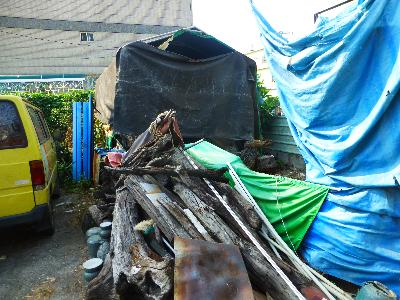plastic_bag: (249, 1, 400, 294)
